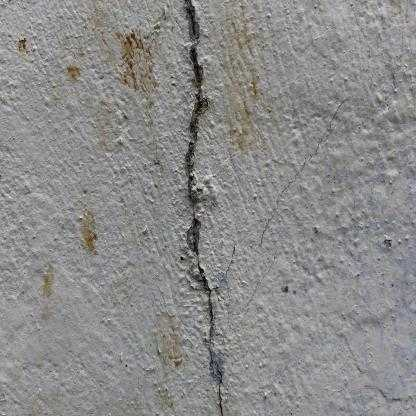crack: (185, 4, 223, 416)
